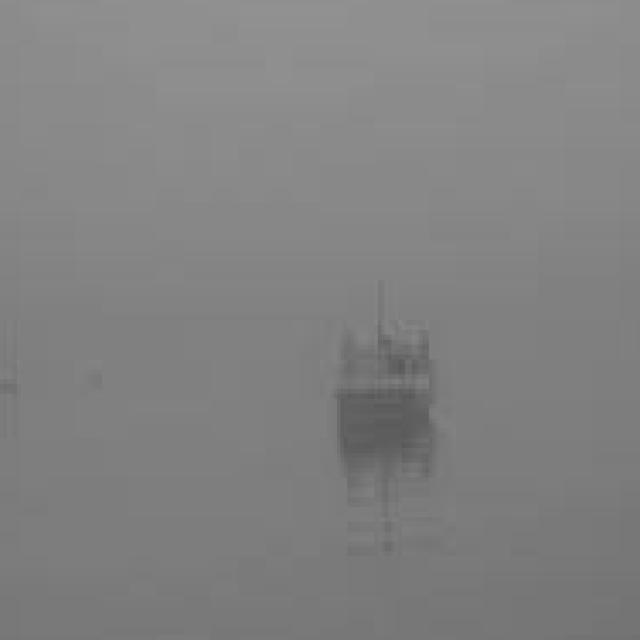houseboat: (307, 288, 455, 461)
